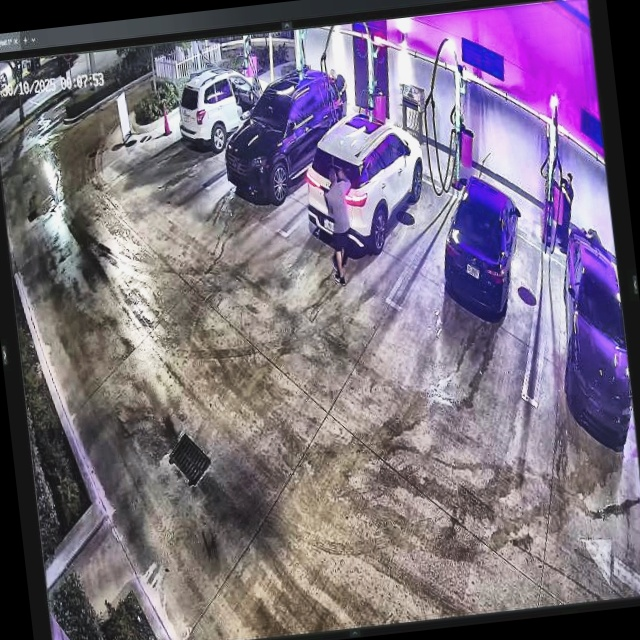Car: (299, 106, 432, 259), (218, 67, 356, 207), (432, 170, 531, 323), (174, 61, 274, 150)
